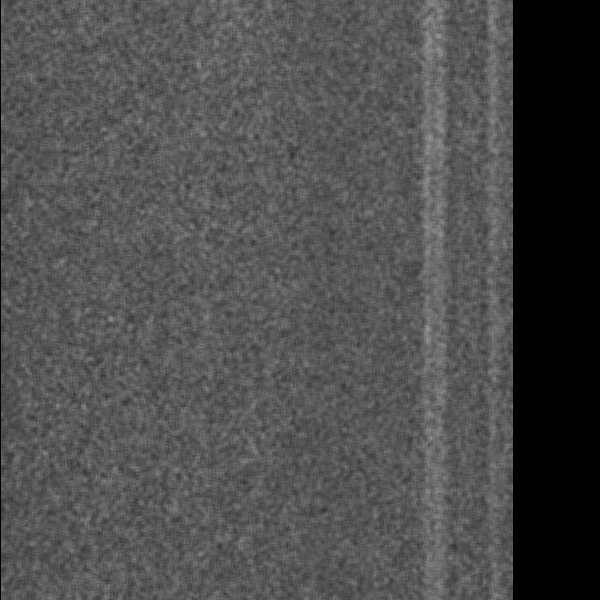spark: (459, 47, 495, 97), (487, 360, 512, 401), (153, 109, 171, 133)
